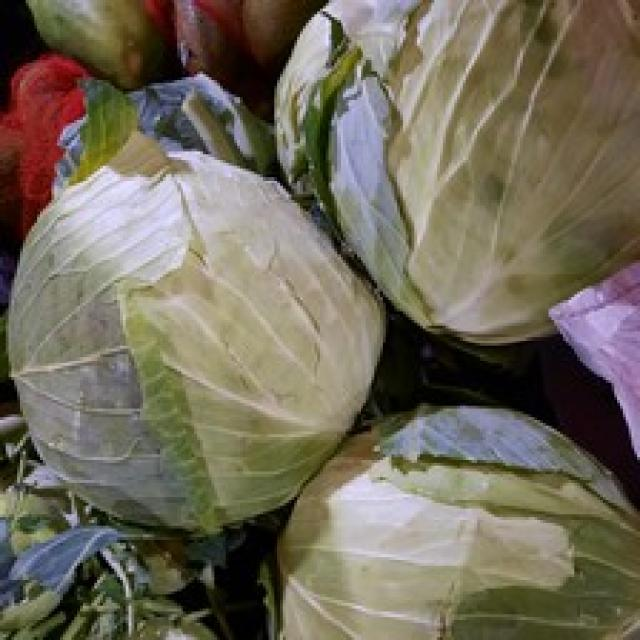Cabbage: (3, 74, 386, 534), (272, 0, 637, 349), (263, 400, 637, 637)
